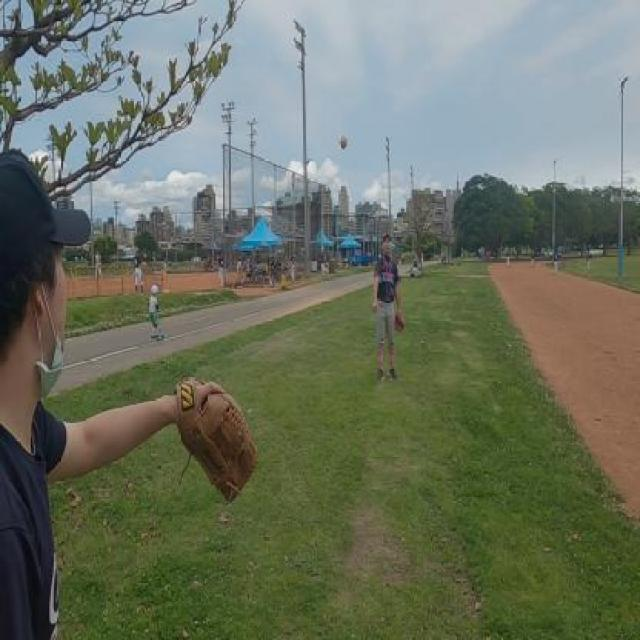baseball: (340, 136, 348, 150)
